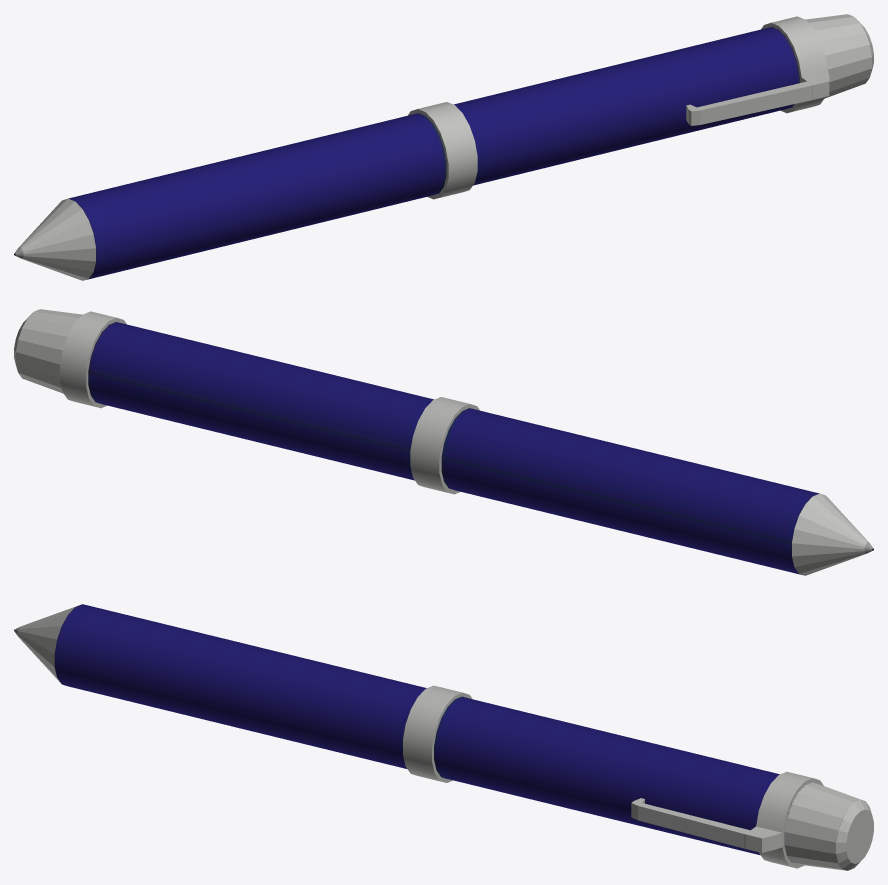
File: pen.FBX
The picture shows the model from 3 angles, top to bottom: view 1: azimuth 30°, elevation 25°; view 2: azimuth 150°, elevation 25°; view 3: azimuth 330°, elevation 25°; orthographic projection.
Parts seen in each view (by area): view 1: Cylinder001; view 2: Cylinder001; view 3: Cylinder001.
Part boxes in pixels (x1,y1,x2,y2): Cylinder001: (14,14,873,280); Cylinder001: (14,309,873,575); Cylinder001: (14,604,873,870).
Bounding box in the file's own units: 23.18 × 2.2 × 2.68.
1 material, 1 textured.
